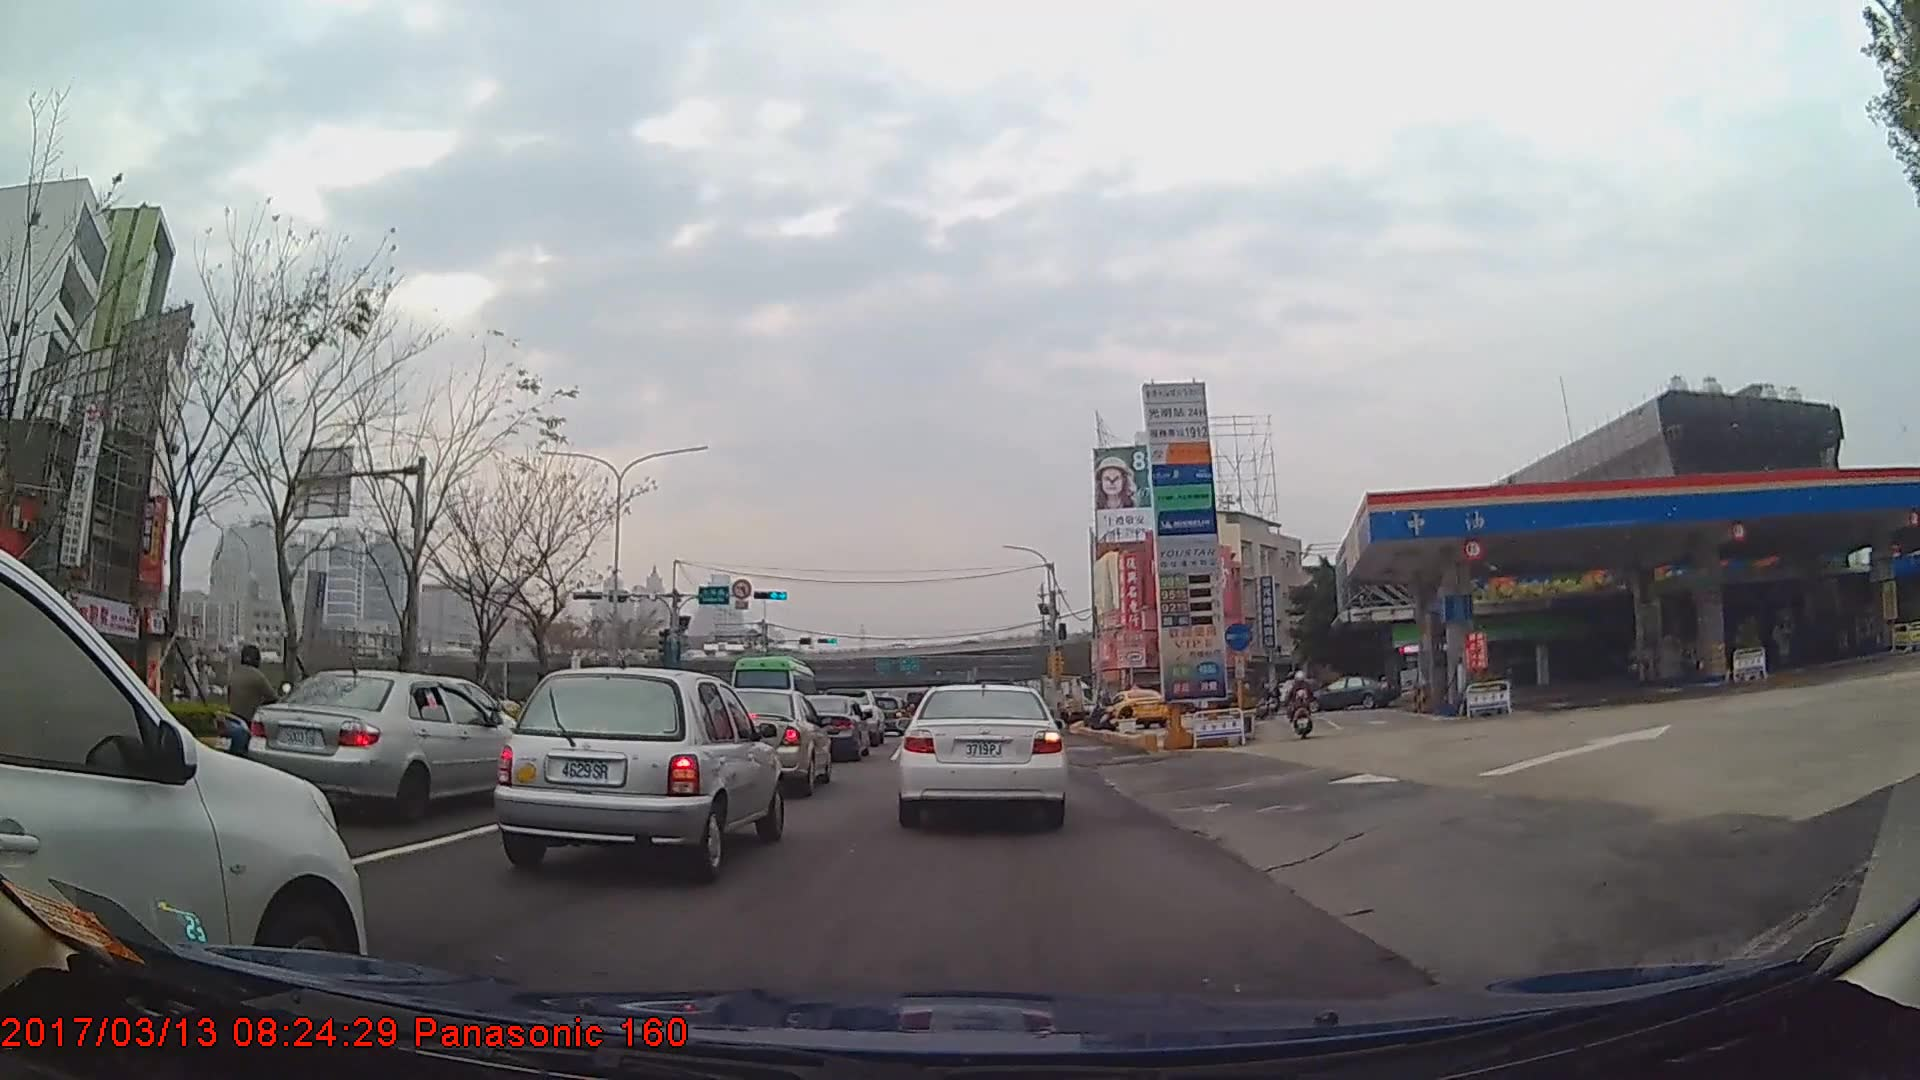rider: (214, 642, 295, 782), (1287, 672, 1316, 737), (1283, 670, 1306, 727)
vehicle: (0, 548, 367, 1011), (490, 664, 784, 880), (246, 671, 522, 821), (897, 680, 1066, 829), (700, 685, 832, 800), (728, 654, 821, 728), (789, 695, 871, 763), (1009, 684, 1098, 736), (1300, 674, 1397, 712), (1109, 687, 1168, 727)
